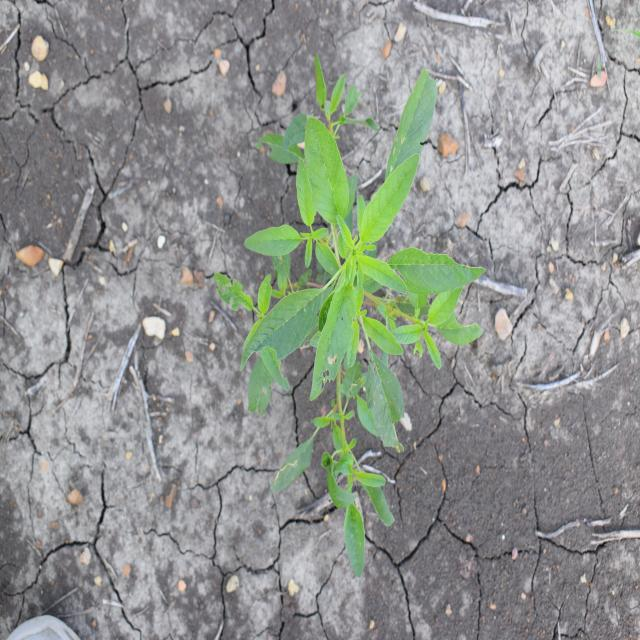Waterhemp: (212, 51, 487, 582)
